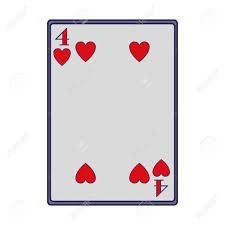four of hearts: (47, 20, 178, 206)
